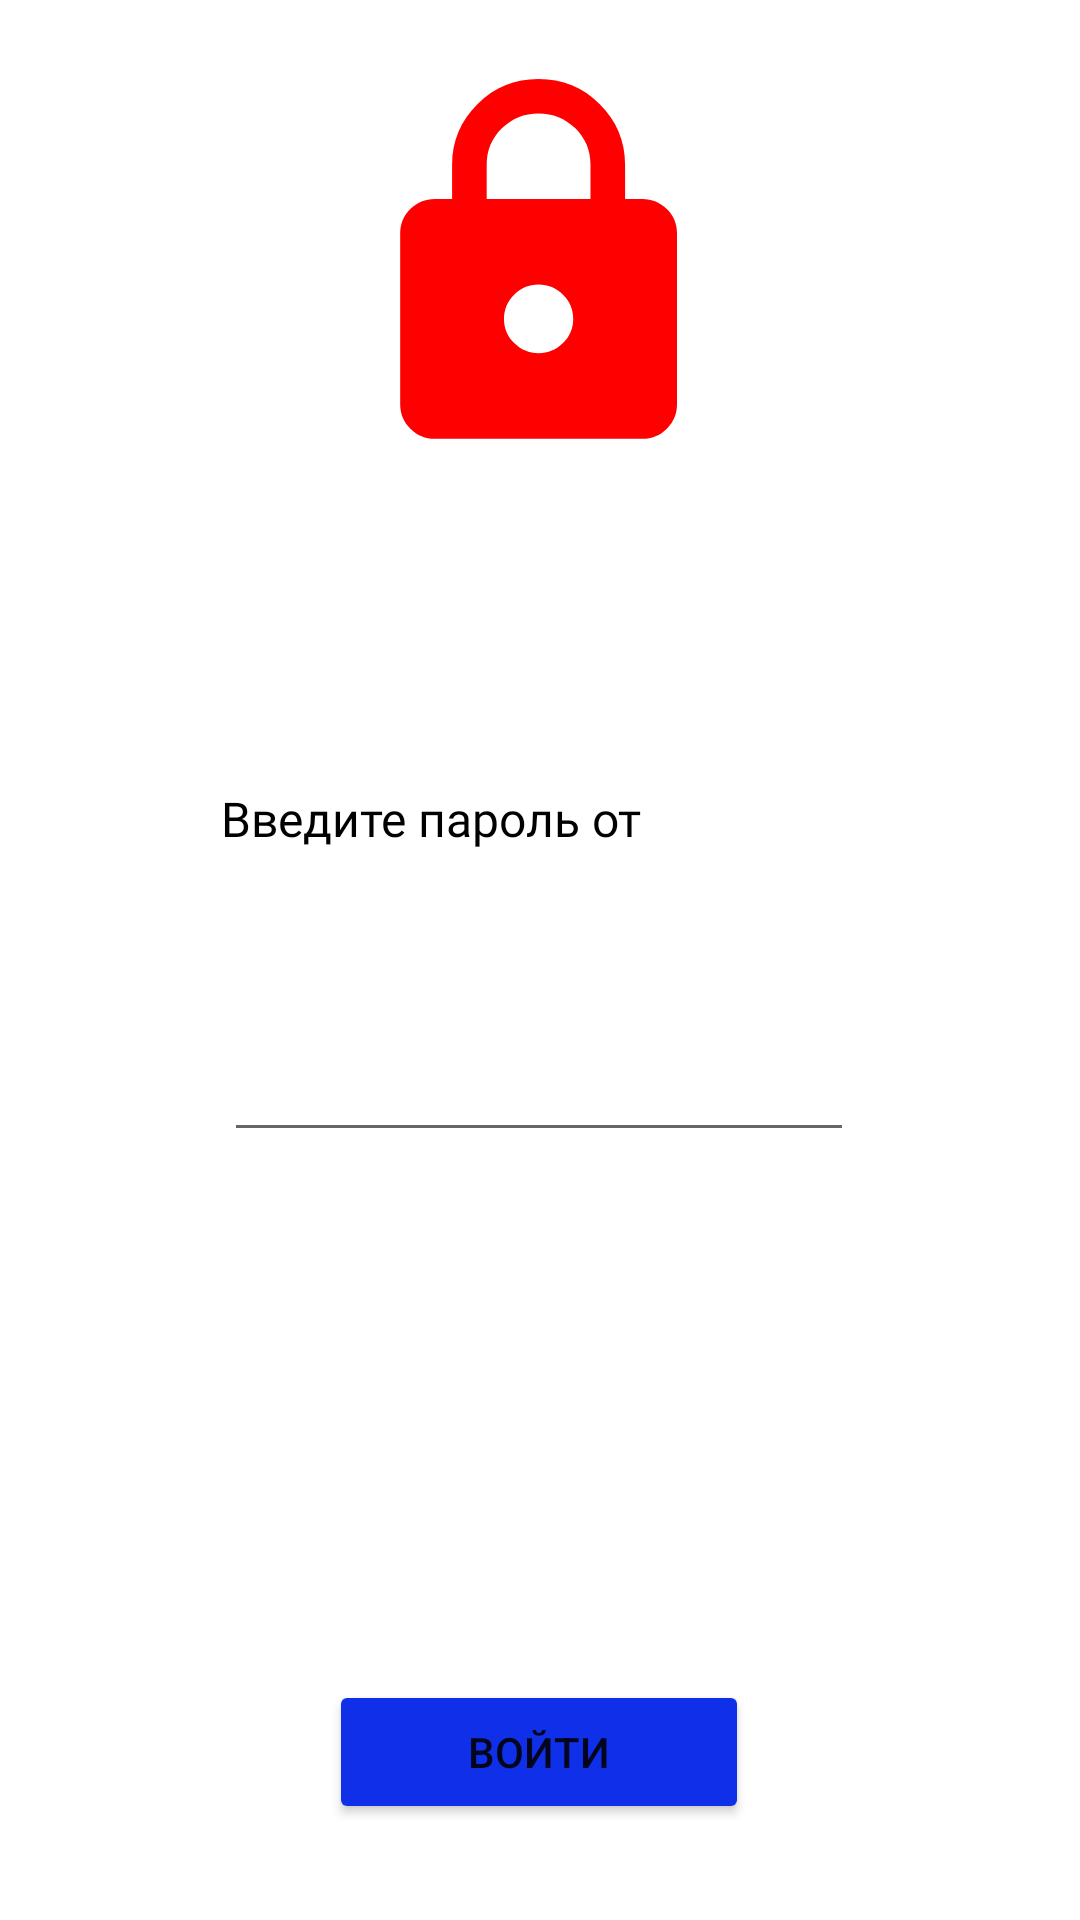

Locate icon controls on the screen. Image size 1080x1920, boxes as {"left": x1, "top": y1, "right": x2, "bottom": y2}.
lock: {"left": 400, "top": 79, "right": 677, "bottom": 439}
